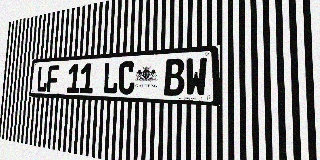1: (79, 63, 94, 94), (67, 64, 80, 93)
B: (164, 58, 185, 96)
C: (118, 61, 135, 95)
F: (47, 65, 59, 93)
L: (102, 62, 119, 94), (36, 66, 48, 92)
W: (185, 57, 207, 97)
